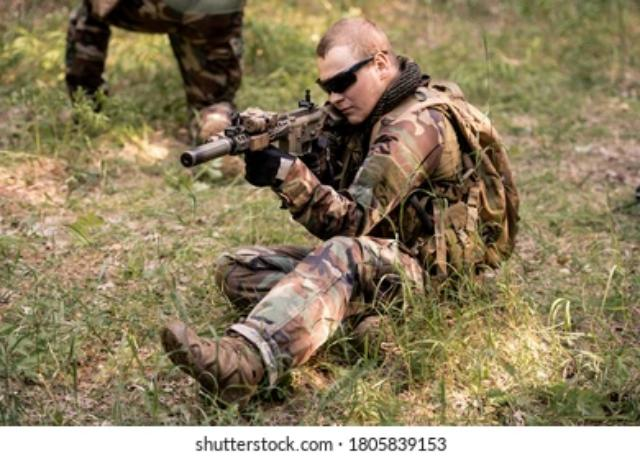other: (258, 12, 512, 289)
